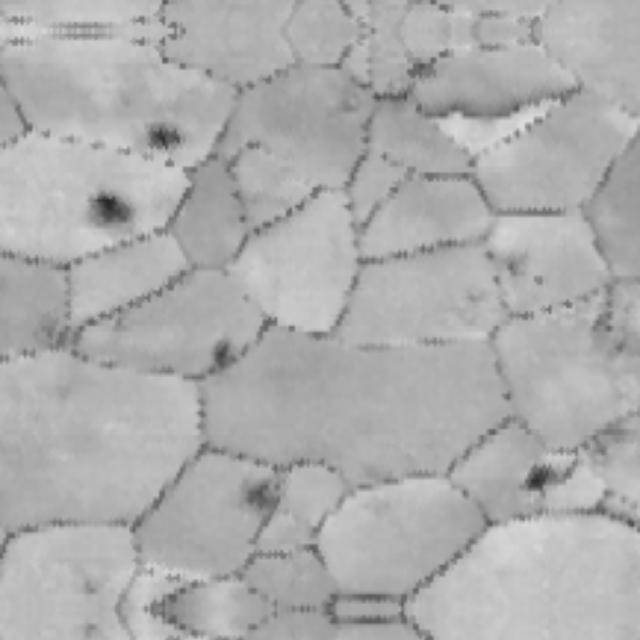good_void: (130, 113, 190, 163), (513, 452, 570, 494), (91, 188, 129, 230), (238, 482, 281, 519), (202, 343, 233, 374), (76, 572, 102, 603), (406, 62, 439, 84), (76, 617, 102, 640), (506, 259, 523, 278), (486, 248, 502, 267), (488, 276, 506, 291), (531, 274, 547, 289)
